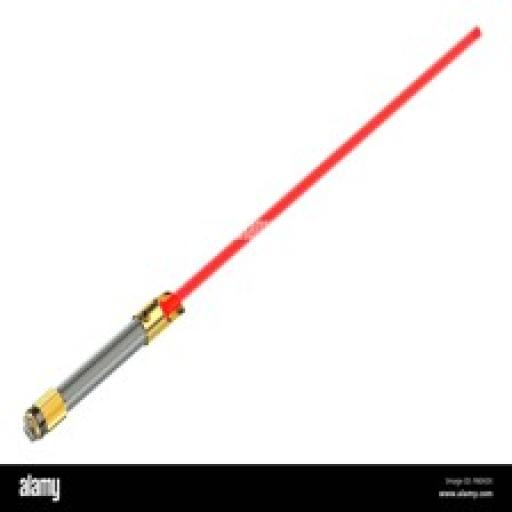sith saber: (21, 24, 485, 443)
